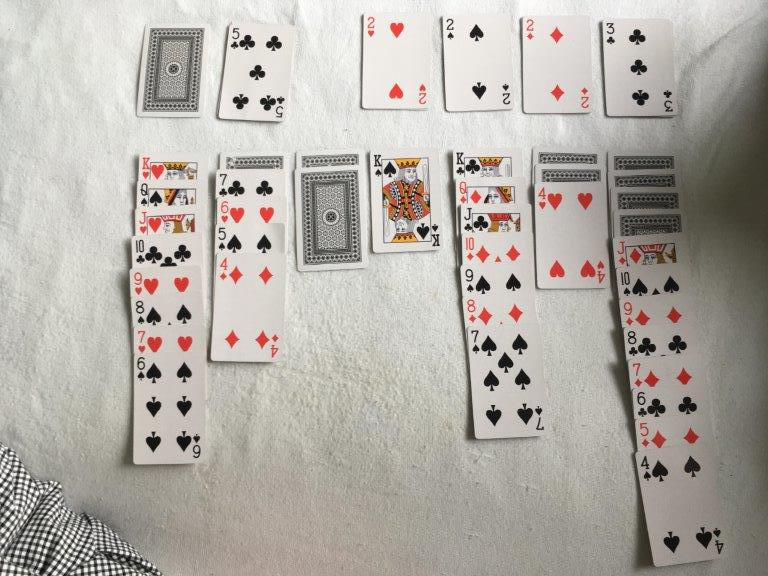10C: (133, 235, 146, 265)
10D: (462, 234, 478, 263)
10S: (618, 267, 633, 297)
2D: (524, 15, 538, 45)
2H: (364, 13, 378, 39)
2S: (442, 15, 458, 43)
3C: (603, 19, 618, 47)
4D: (217, 254, 231, 283)
4H: (537, 183, 549, 211)
4S: (639, 449, 655, 485)
5C: (230, 25, 242, 53)
5D: (637, 418, 651, 449)
5S: (216, 223, 229, 253)
6C: (634, 388, 650, 419)
6H: (218, 198, 232, 225)
6S: (135, 353, 149, 382)
7C: (217, 171, 231, 198)
7D: (631, 358, 644, 388)
7H: (135, 326, 148, 354)
7S: (468, 326, 483, 353)
8C: (626, 326, 640, 357)
8D: (463, 295, 480, 326)
8S: (133, 298, 148, 327)
9D: (622, 298, 637, 326)
9H: (133, 269, 147, 300)
9S: (464, 266, 475, 291)
BACK: (294, 164, 369, 271), (137, 22, 210, 119), (613, 208, 688, 233), (611, 186, 684, 208), (608, 149, 681, 169), (607, 168, 681, 187), (218, 150, 289, 169), (535, 163, 606, 181), (532, 146, 605, 163), (295, 149, 367, 165)
JC: (462, 203, 473, 232)
JD: (615, 238, 628, 264)
JH: (137, 209, 150, 235)
KC: (454, 149, 467, 176)
KH: (139, 154, 151, 180)
KS: (371, 152, 385, 178)
QD: (457, 178, 470, 204)
QS: (138, 180, 151, 206)
